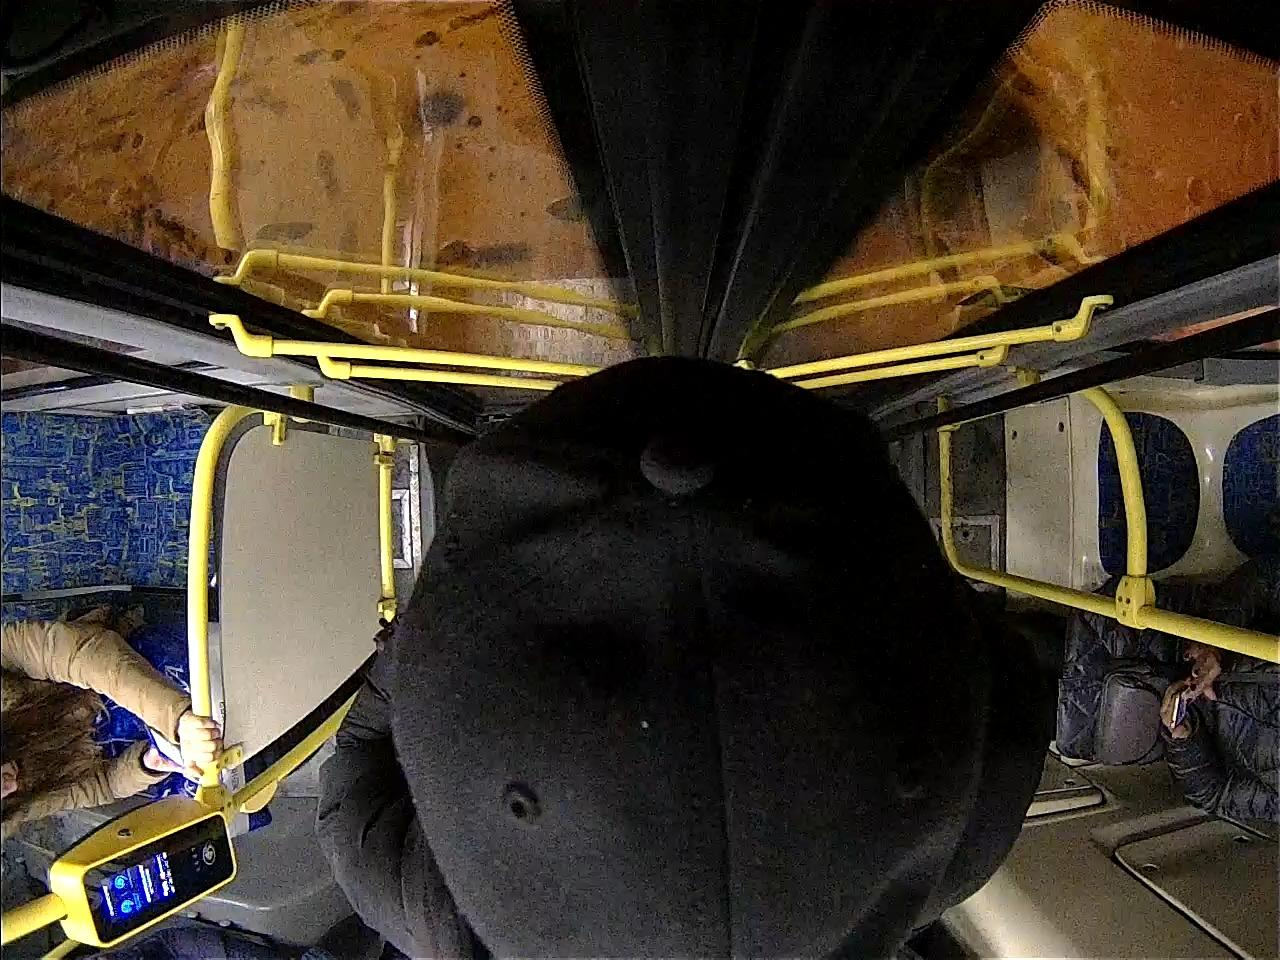close: (0, 0, 1280, 465)
